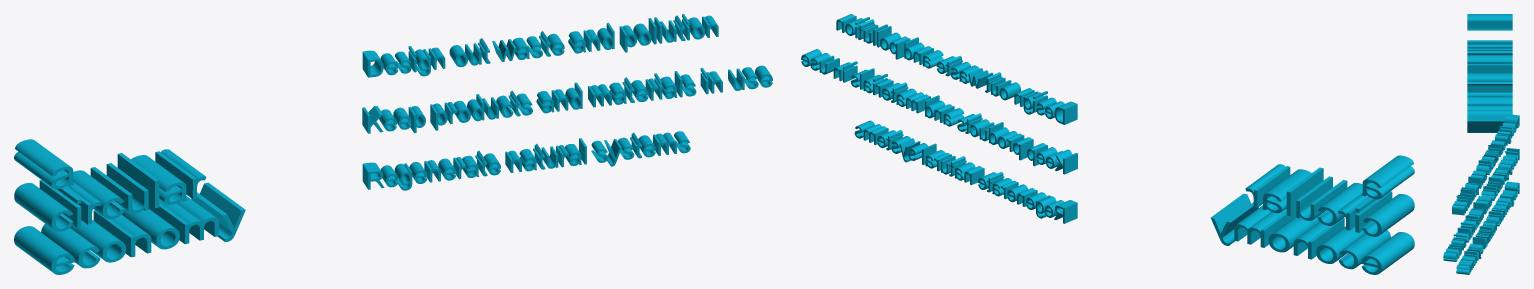
File: CIRCULAR_ECONOMY.gltf
3 views of the same model, side by side, from view 1: azimuth 30°, elevation 25°; view 2: azimuth 150°, elevation 25°; view 3: azimuth 270°, elevation 25° (orthographic). The views are drawn at different scales.
Parts seen in each view (by area): view 1: circular economy; view 2: circular economy; view 3: circular economy.
Boxes of the visible parts, x1,y1,x2,y2 form: circular economy: (14,14,772,274); circular economy: (801,14,1414,274); circular economy: (1443,14,1519,274).
Size of the model in its own units: 4.18 by 0.7631 by 0.649.
